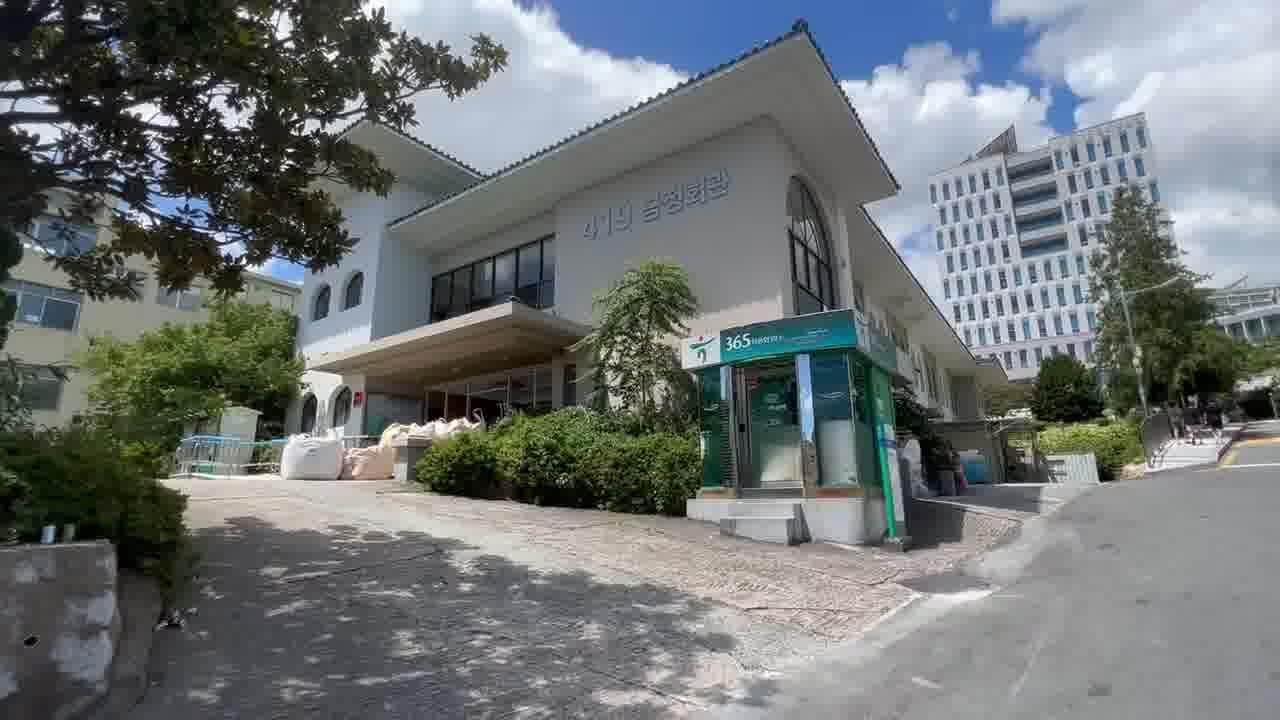building: (343, 107, 979, 418)
